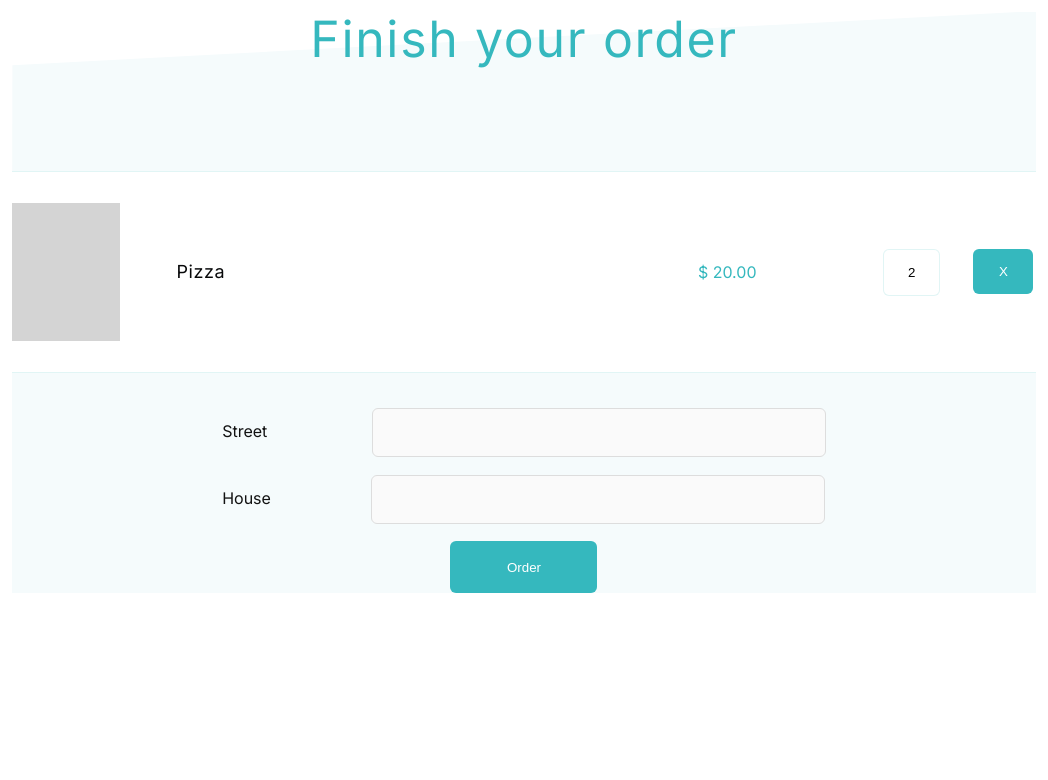
Scenario: OrderPage: unit tests › Should display error when the address isn't inputted
The image size is (1048, 780).
What coordinates should you click on to do the following:
click the button "Order"
I would click on:
 (524, 567)
Its box is [450,541,598,593].
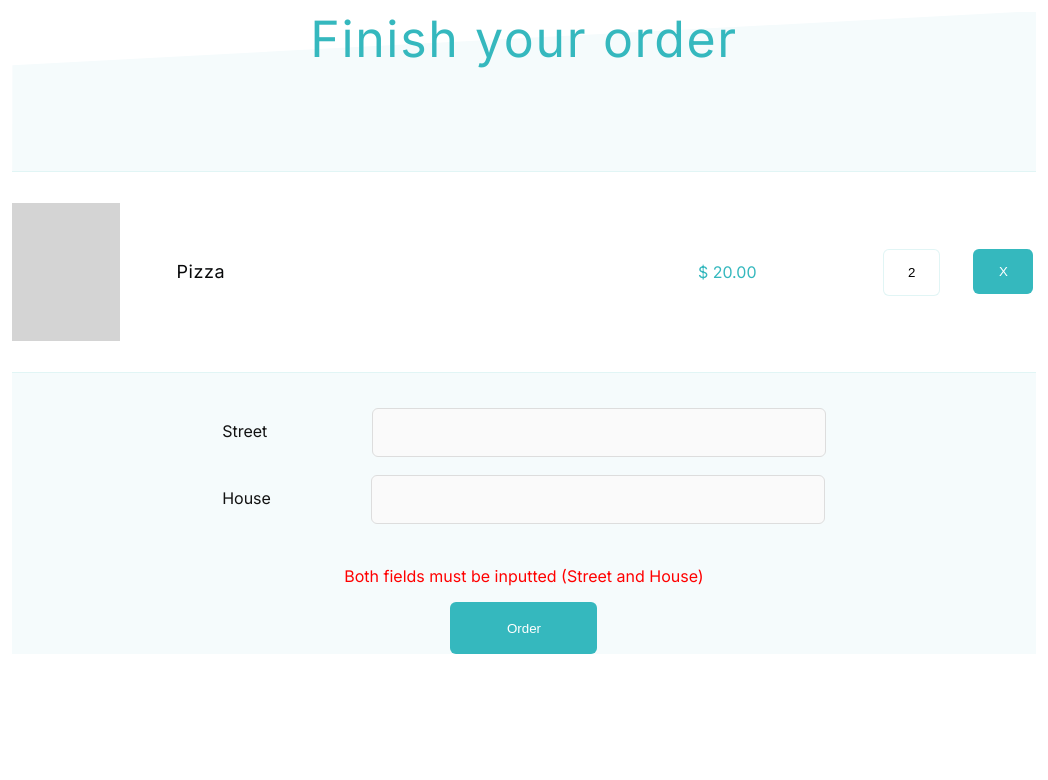
expect the text "Both fields must be inputted (Street and House)" is shown: met, box [344,566,704,586]
